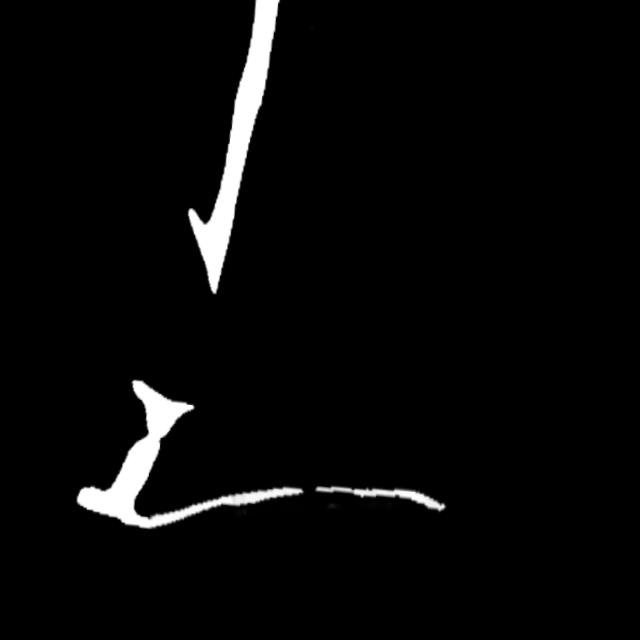sup: (282, 471, 326, 512)
